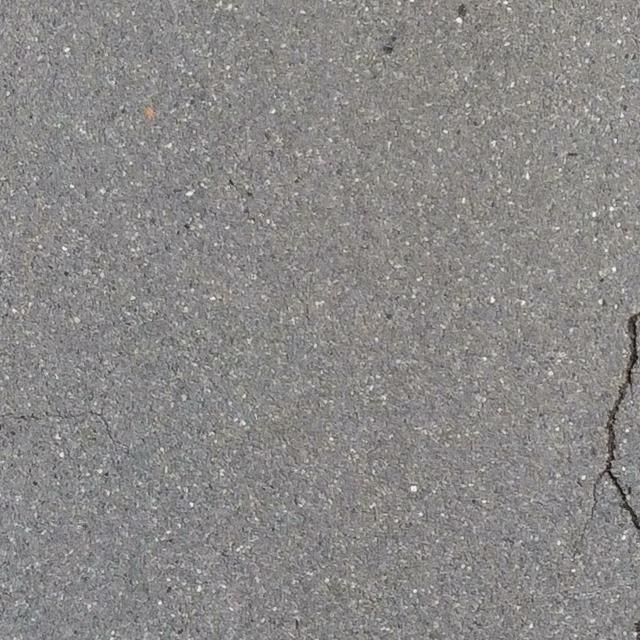LongitudinalCrack: (585, 308, 640, 537)
